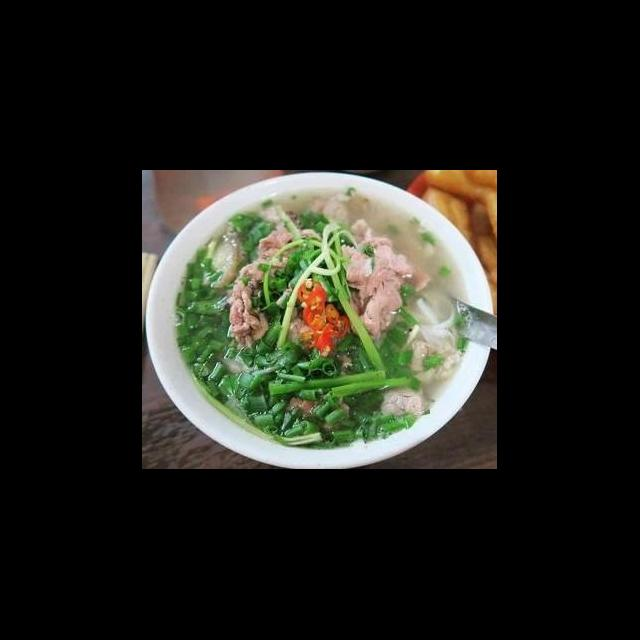banh pho: (404, 292, 461, 348)
pho bo: (146, 191, 490, 468)
thit bo: (336, 212, 436, 352), (222, 252, 278, 352), (256, 222, 322, 270), (408, 340, 464, 390), (374, 384, 434, 424)
